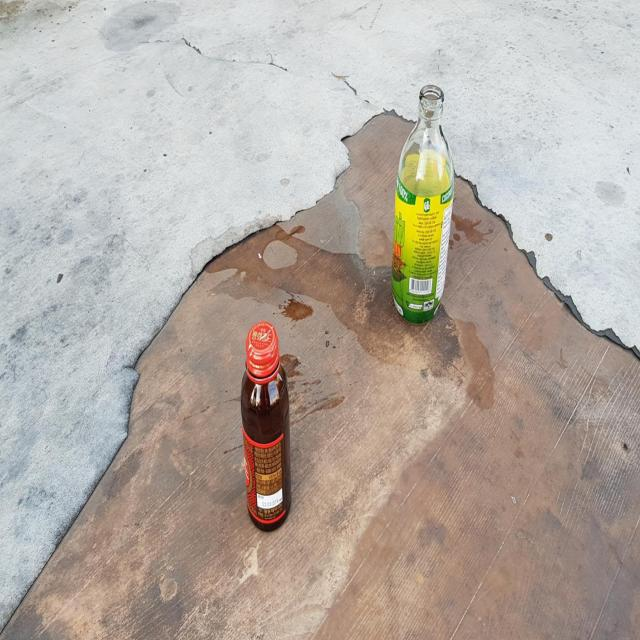glass: (392, 84, 455, 324), (241, 321, 291, 531)
